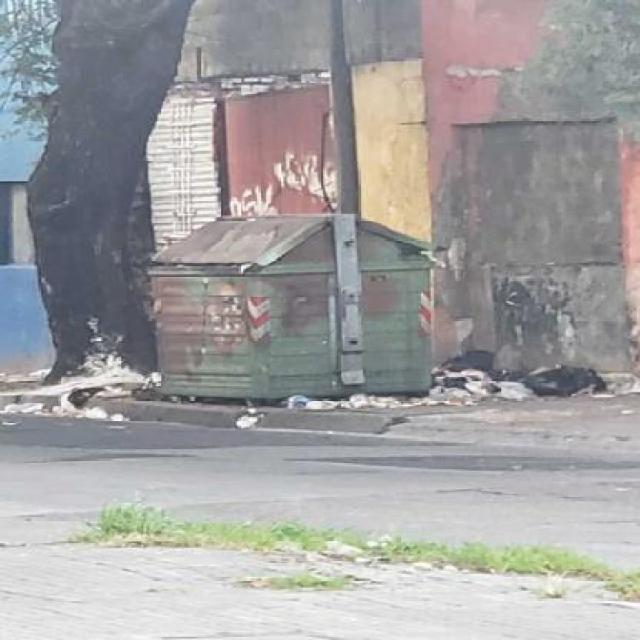garbage: (426, 343, 638, 418), (3, 366, 194, 428), (281, 391, 434, 426), (217, 388, 268, 446)
